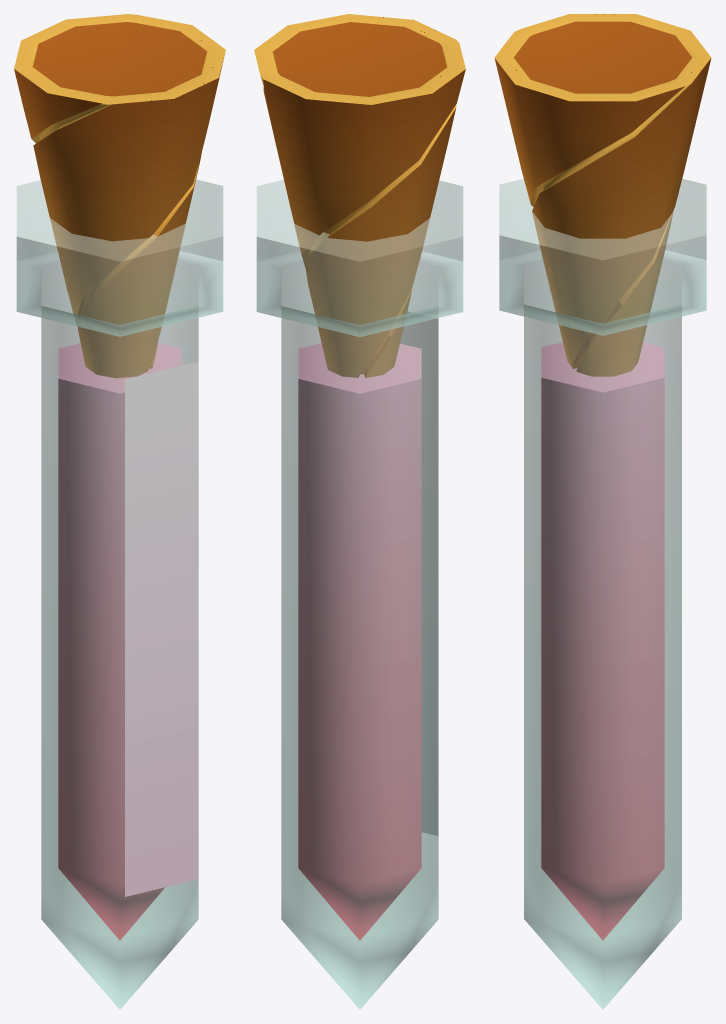
Rendered from unicornBlood_adjusted.fbx.
The picture shows the model from 3 angles, left to right: view 1: azimuth 30°, elevation 25°; view 2: azimuth 150°, elevation 25°; view 3: azimuth 270°, elevation 25°; orthographic projection.
Visible parts, largest first — view 1: vial, cork, label, liquid; view 2: vial, liquid, cork, label; view 3: vial, liquid, cork.
Boxes of the visible parts, left/top/right/bottom form: vial: left=16, top=179, right=223, bottom=1009; cork: left=14, top=14, right=225, bottom=378; label: left=125, top=362, right=198, bottom=896; liquid: left=58, top=343, right=181, bottom=940; vial: left=256, top=179, right=463, bottom=1009; liquid: left=298, top=343, right=421, bottom=940; cork: left=254, top=14, right=465, bottom=377; label: left=400, top=312, right=437, bottom=835; vial: left=499, top=178, right=706, bottom=1009; liquid: left=541, top=342, right=664, bottom=940; cork: left=494, top=14, right=711, bottom=376.
Size of the model in its own units: 2.62 by 11.53 by 2.38.
